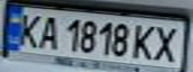1: (60, 16, 81, 53), (96, 19, 115, 56)
8: (78, 17, 100, 55), (112, 20, 133, 58)
A: (33, 13, 63, 51)
K: (12, 10, 45, 49), (127, 21, 157, 61)
X: (148, 22, 184, 63)
